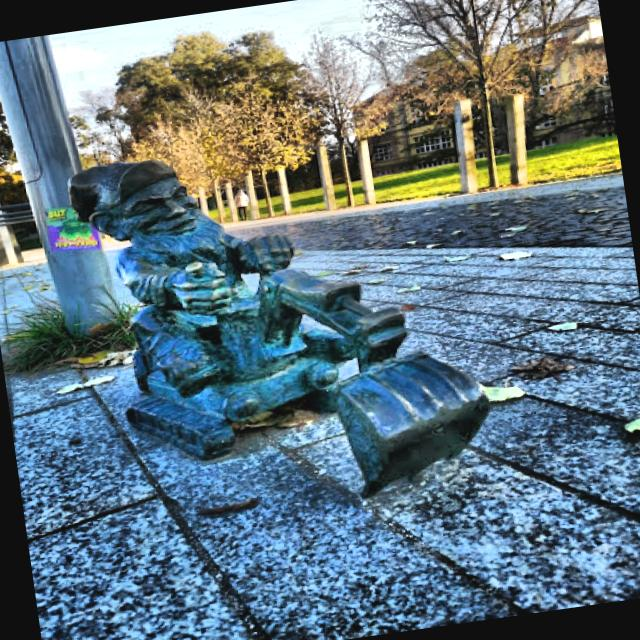Koparkus: (69, 162, 490, 495)
